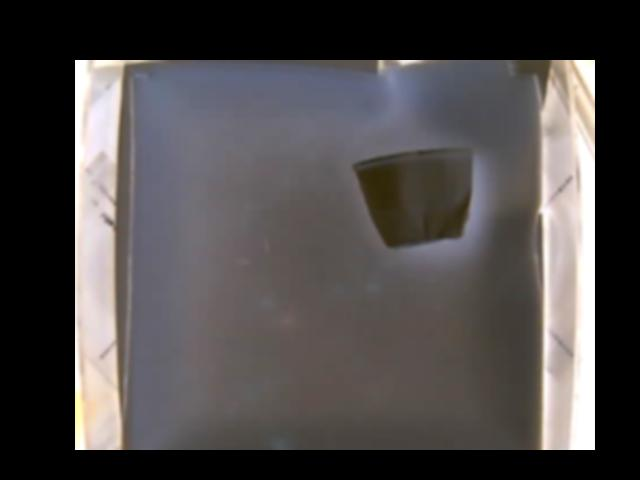Cup: (355, 146, 473, 246)
